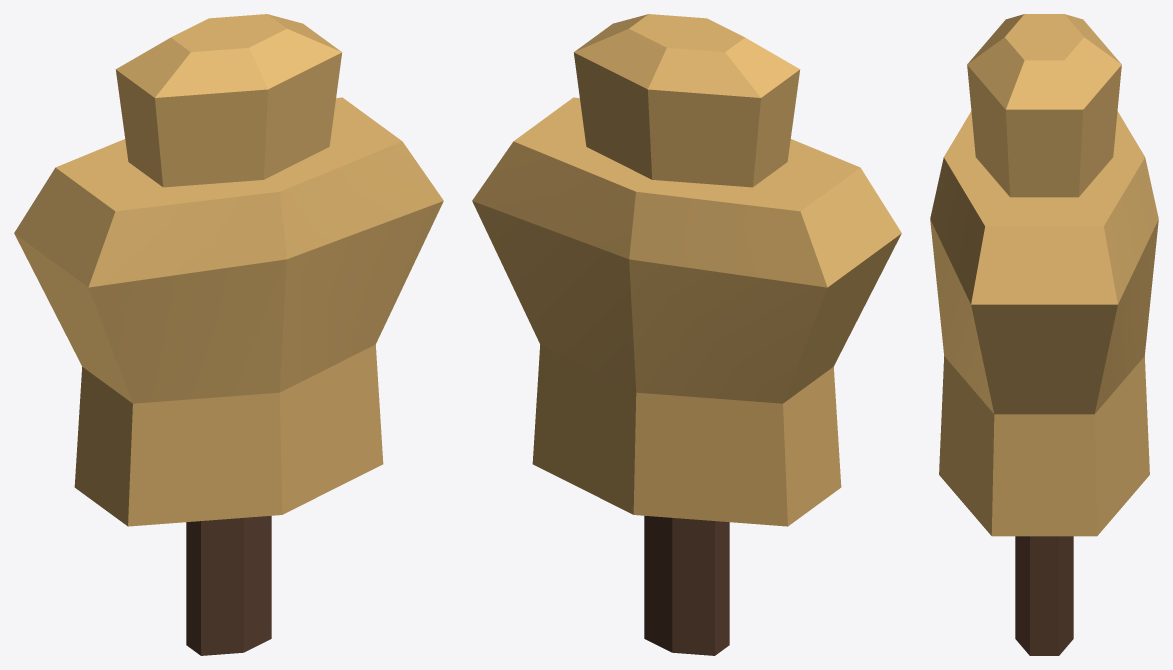
The model's file is prp_training_dummy.glb.
3 renders of one model, left to right at view 1: azimuth 30°, elevation 25°; view 2: azimuth 150°, elevation 25°; view 3: azimuth 270°, elevation 25°, orthographic.
Parts seen in each view (by area): view 1: Mesh; view 2: Mesh; view 3: Mesh.
Boxes of the visible parts, box(x1,y1,x2,y2) form: Mesh: box(14, 14, 443, 655); Mesh: box(472, 14, 901, 655); Mesh: box(930, 14, 1158, 655).
Bounding box in the file's own units: 1.1 × 1.8 × 0.62.
